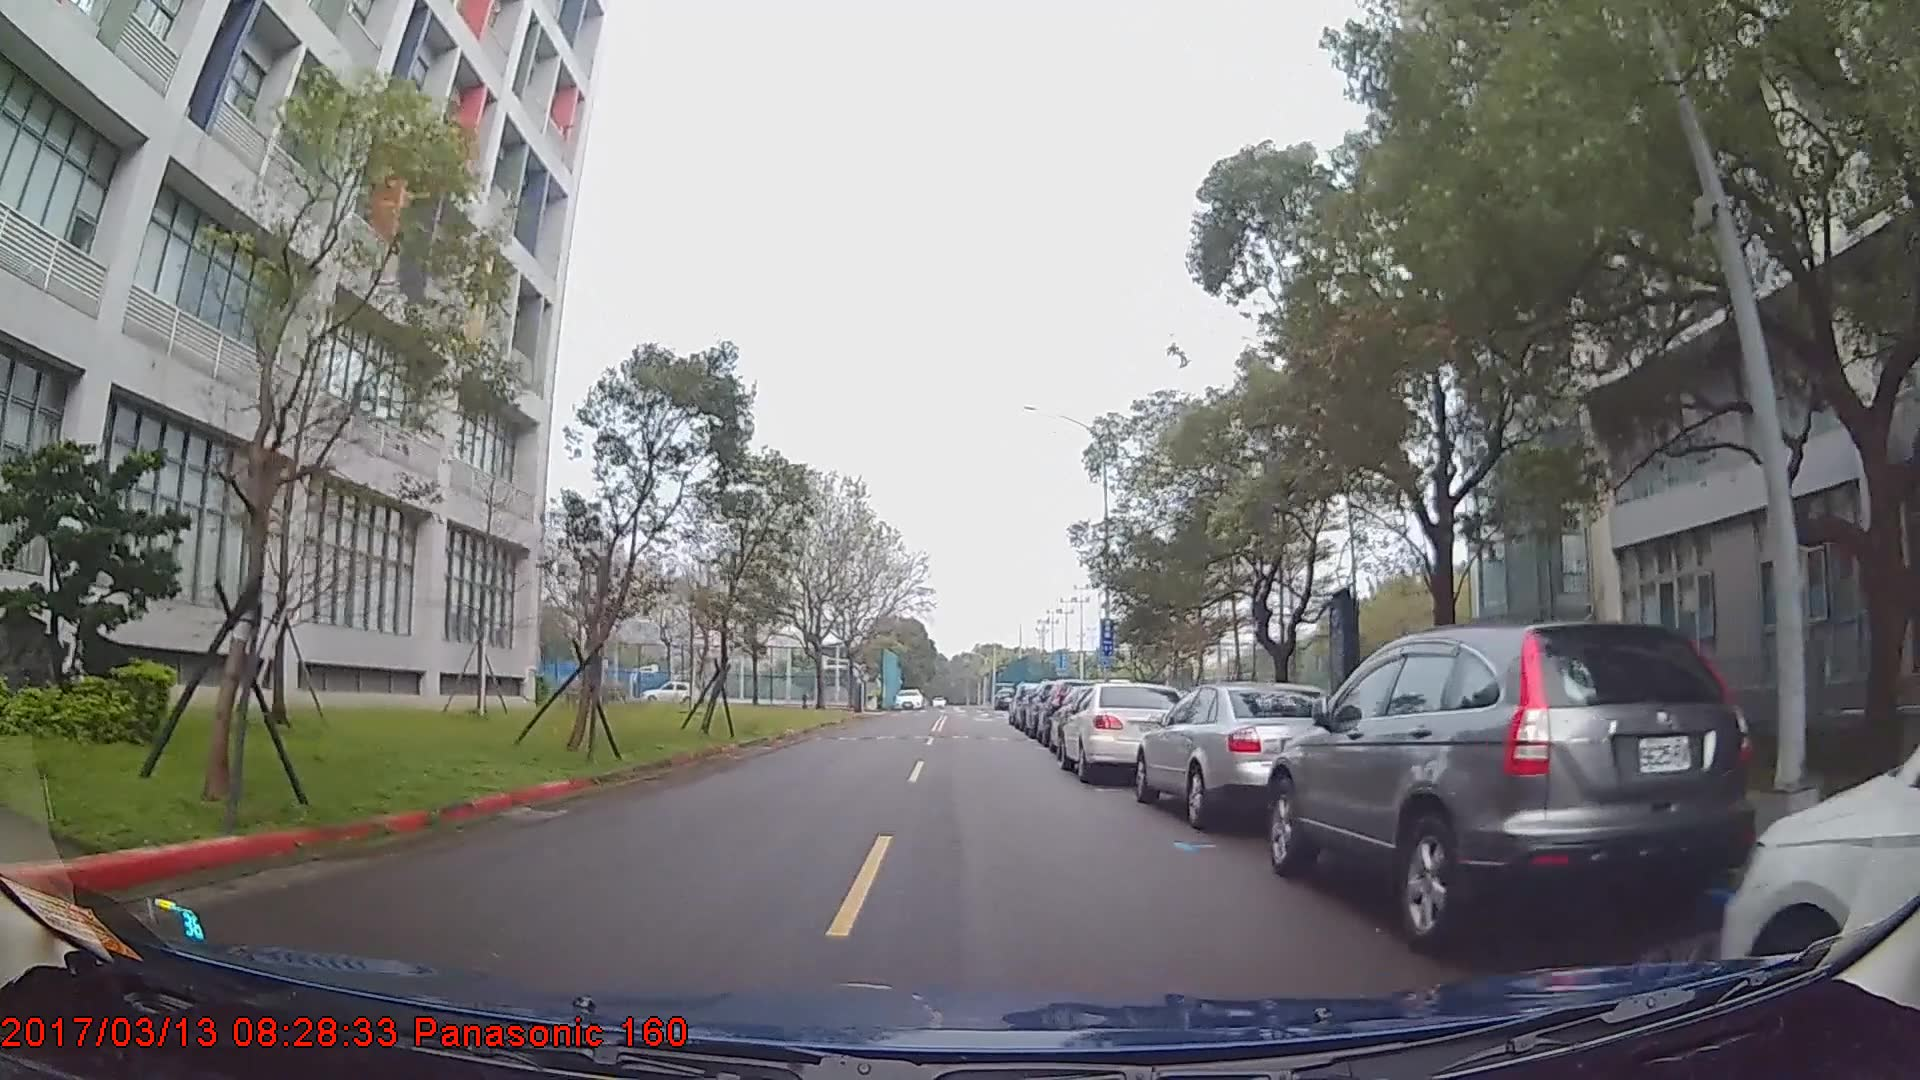vehicle: (1266, 618, 1756, 957), (1131, 680, 1348, 831), (1058, 678, 1193, 785), (642, 675, 698, 702)
